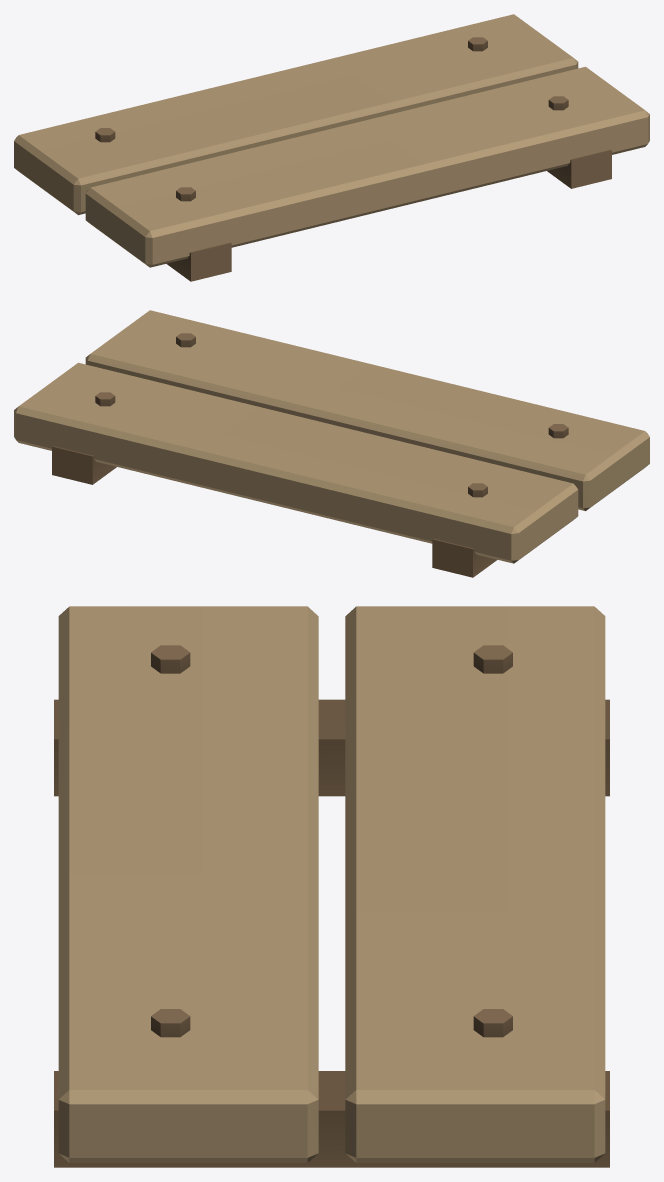
Rendered from crossing_plank.glb.
3 views of the same model, one above another, from view 1: azimuth 30°, elevation 25°; view 2: azimuth 150°, elevation 25°; view 3: azimuth 270°, elevation 25° (orthographic). The views are drawn at different scales.
Parts seen in each view (by area): view 1: crossing_plank; view 2: crossing_plank; view 3: crossing_plank.
Boxes of the visible parts, left/top/right/bottom form: crossing_plank: left=14, top=14, right=649, bottom=281; crossing_plank: left=14, top=310, right=649, bottom=577; crossing_plank: left=54, top=606, right=609, bottom=1167.
Bounding box in the file's own units: 1.3 × 0.157 × 0.62.
